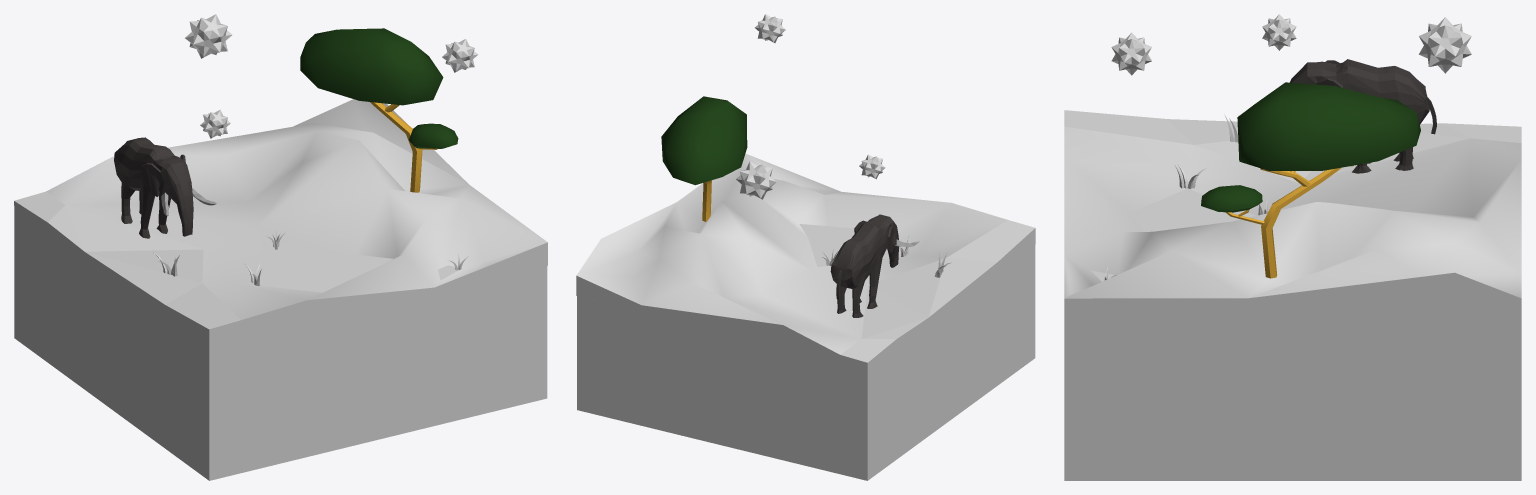
Rendered from grassland.FBX.
The picture shows the model from 3 angles, left to right: view 1: azimuth 30°, elevation 25°; view 2: azimuth 150°, elevation 25°; view 3: azimuth 270°, elevation 25°; orthographic projection. The views are drawn at different scales.
Visible parts, largest first — view 1: earthland, earthmt, earth_tree, earth_elephant, earth_water, earth_star2, earth_star3, earth_star; view 2: earthland, earthmt, earth_tree, earth_elephant, earth_water, earth_star2, earth_star3; view 3: earthmt, earthland, earth_tree, earth_elephant, earth_water, earth_star2, earth_star3, earth_star.
Part boxes in pixels (x1,y1,x2,y2): earthland: (14,206,547,480); earthmt: (14,99,547,348); earth_tree: (300,28,458,192); earth_elephant: (114,137,216,238); earth_water: (260,241,458,292); earth_star2: (185,14,232,58); earth_star3: (442,39,478,72); earth_star: (200,109,230,138); earthland: (577,244,1035,480); earthmt: (576,153,1035,366); earth_tree: (661,96,747,221); earth_elephant: (830,214,919,317); earth_water: (799,224,901,267); earth_star2: (736,161,776,199); earth_star3: (754,14,785,42); earthmt: (1064,110,1521,325); earthland: (1064,326,1521,480); earth_tree: (1201,82,1420,278); earth_elephant: (1290,59,1436,173); earth_water: (1091,188,1256,281); earth_star2: (1419,17,1471,73); earth_star3: (1111,32,1151,75); earth_star: (1262,14,1296,50).
Bounding box in the file's own units: 2.63 × 2.61 × 2.62.
